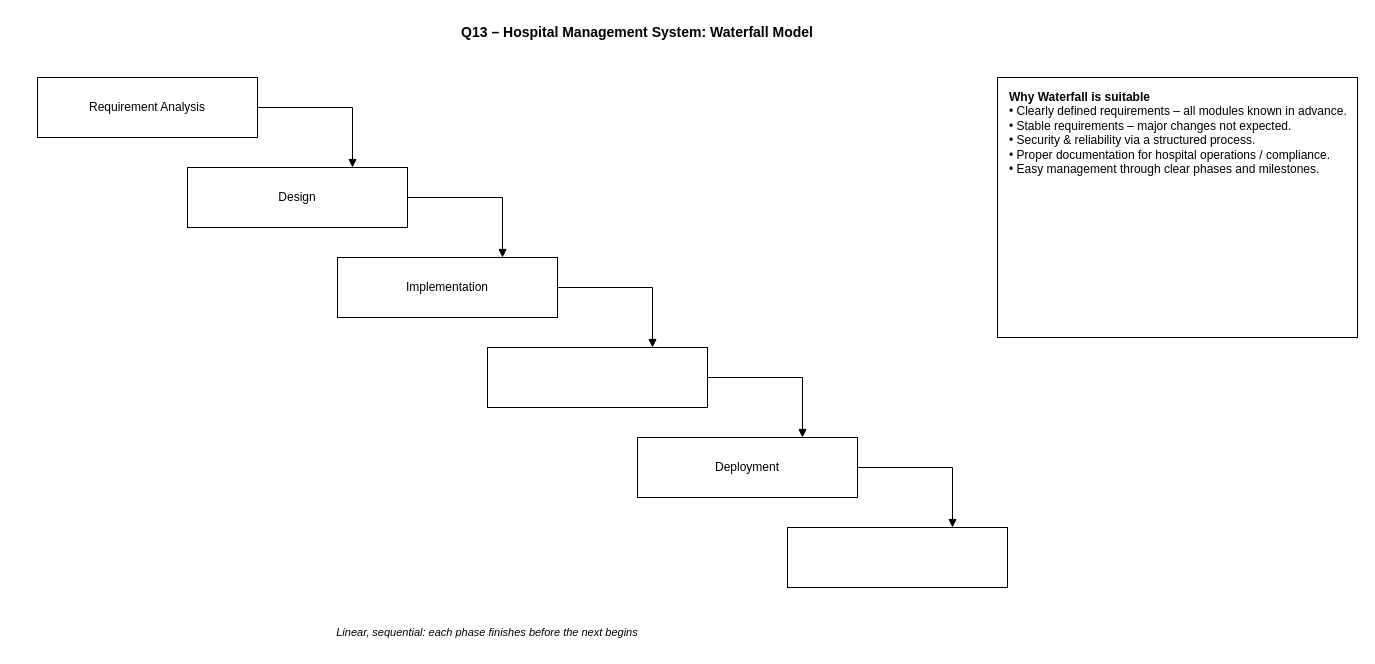
This 1375x664 diagram has some shape labels left out. Here are the shapes that lost their labels. From the top down, the box of each, then its label:
(486, 346, 708, 408): Testing
(786, 526, 1008, 588): Maintenance
